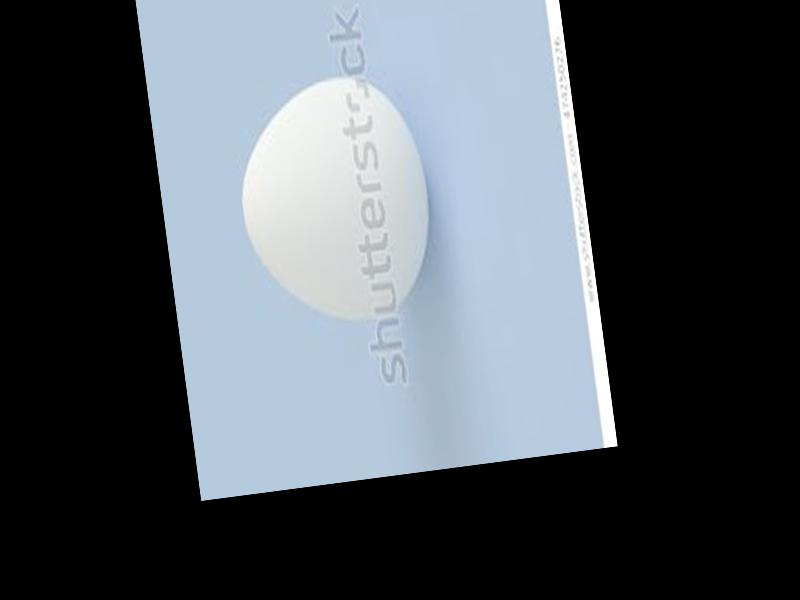Eggs: (228, 66, 444, 333)
